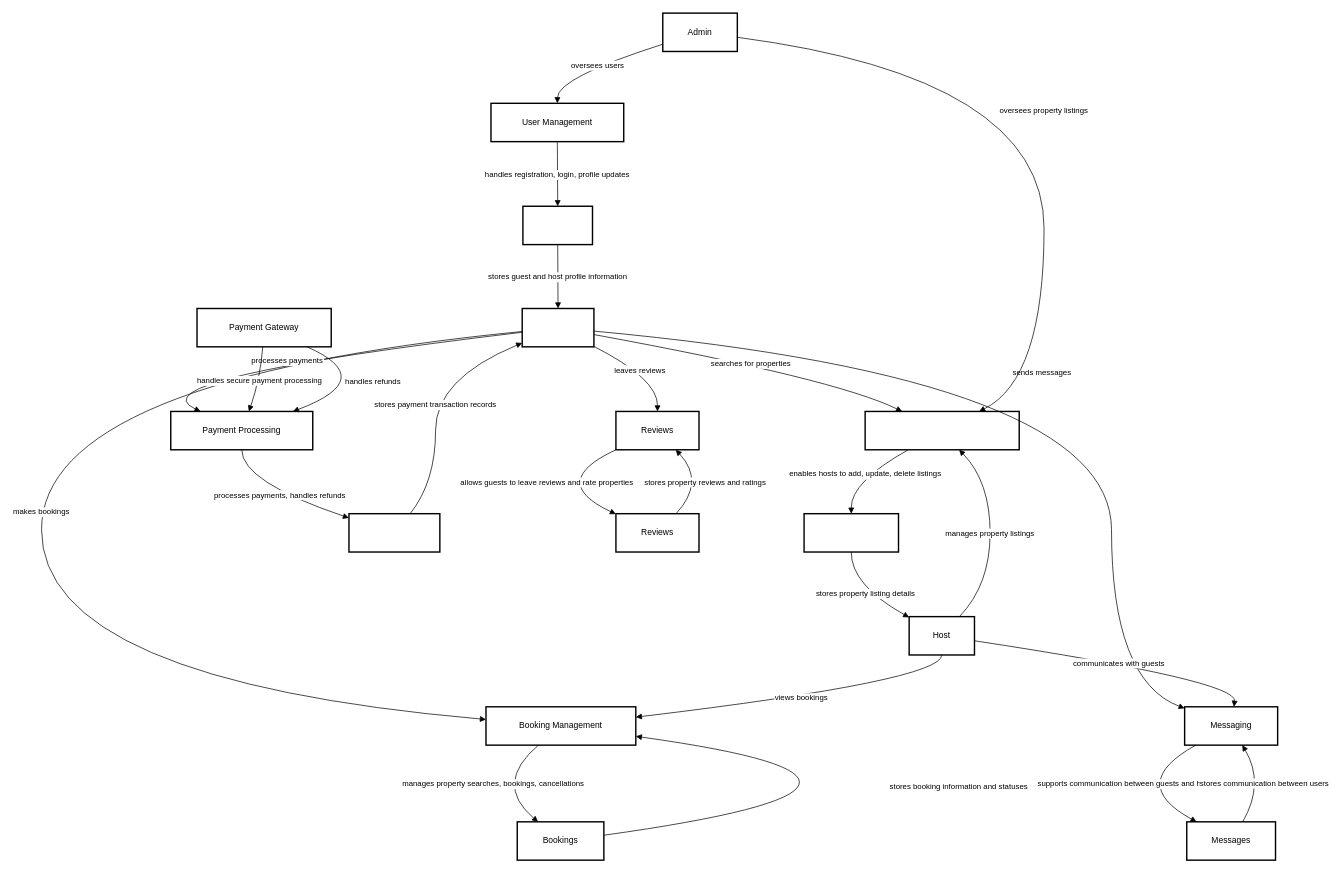
Image size: 1342x873. Some labels were removed from this diagram. The shapes that lost their labels are listed below. From the top down, each one's centre as x and y in pixels, then its label:
At (557,225): "Users".
At (557,327): "Guest".
At (942,430): "Property Management".
At (394,532): "Payments".
At (851,532): "Properties".
